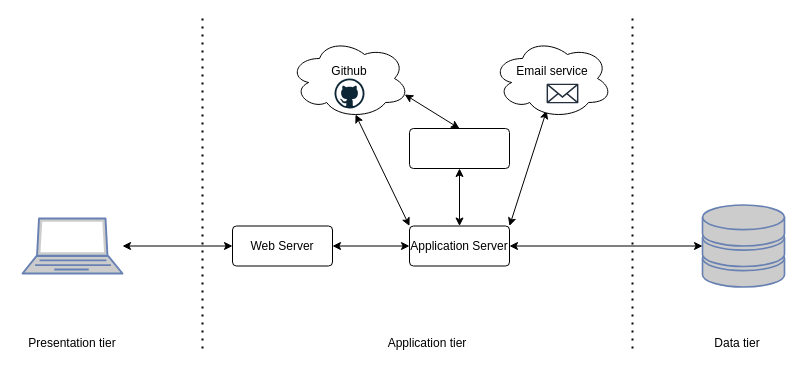
Image size: 809x375. Some labels were removed from this diagram. The centre of each missing label's shape, as x and y in pixels:
DBMS: point 743,246
Test Runner Server: point 459,148
